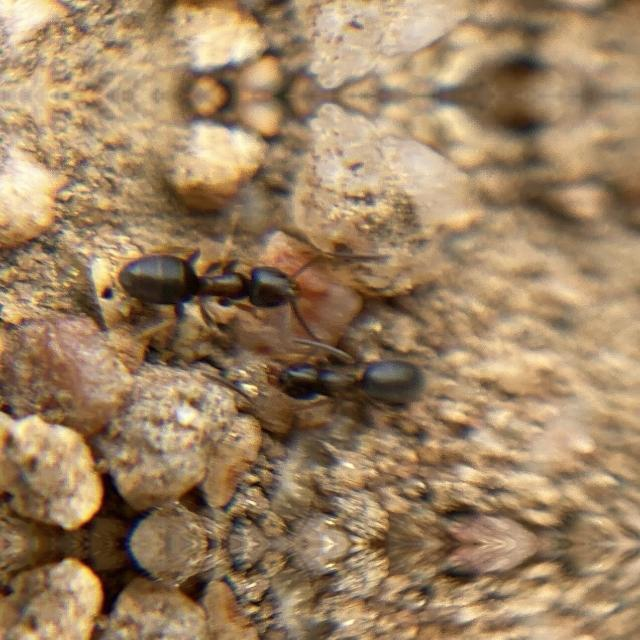Tapinoma: (94, 234, 336, 336), (246, 337, 442, 425)
